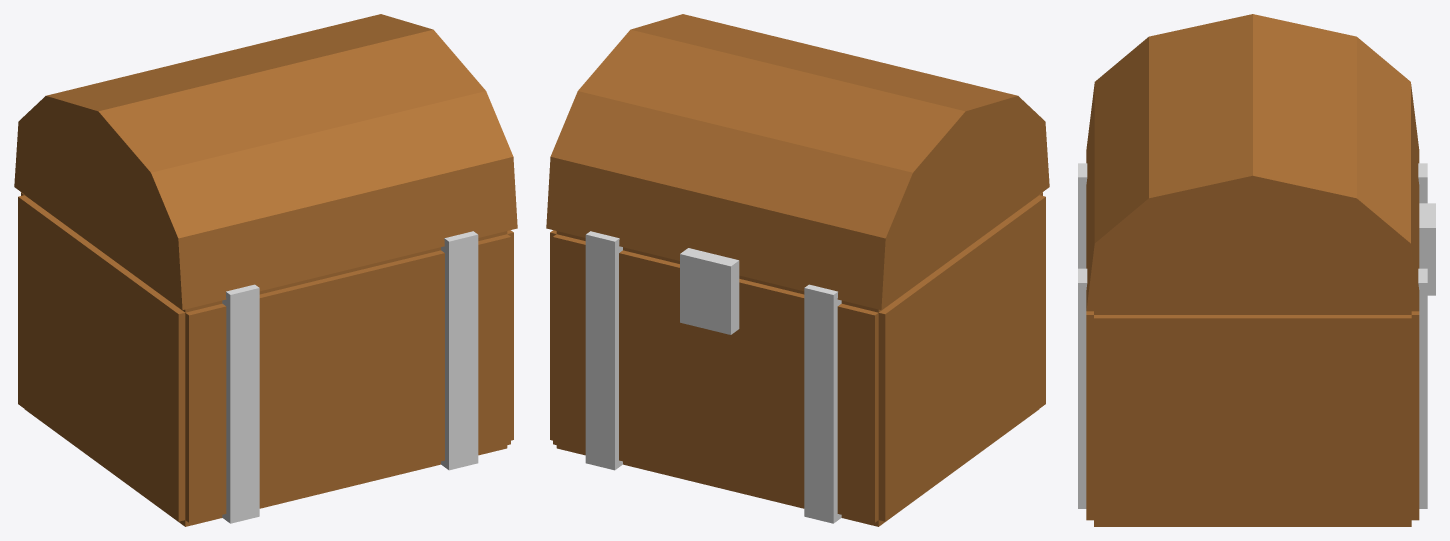
The model's file is lihzahrd_chest_v0.glb.
3 views of the same model, side by side, from view 1: azimuth 30°, elevation 25°; view 2: azimuth 150°, elevation 25°; view 3: azimuth 270°, elevation 25° (orthographic).
Visible parts, largest first — view 1: lihzahrd_chest_v0; view 2: lihzahrd_chest_v0; view 3: lihzahrd_chest_v0.
Boxes of the visible parts, x1=… form: lihzahrd_chest_v0: x1=14, y1=14, x2=517, y2=526; lihzahrd_chest_v0: x1=546, y1=14, x2=1049, y2=526; lihzahrd_chest_v0: x1=1078, y1=14, x2=1435, y2=526.
Size of the model in its own units: 0.92 by 0.94 by 0.86.
